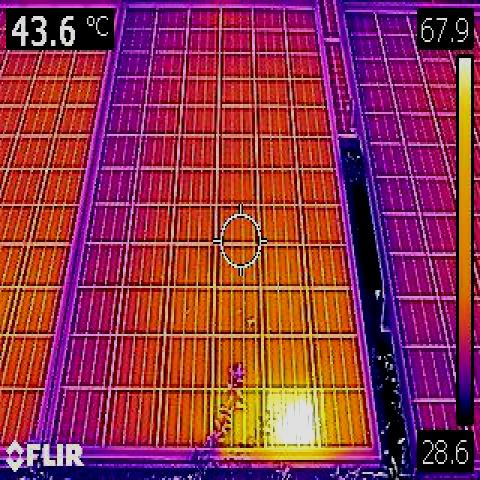fault: (266, 389, 324, 449)
